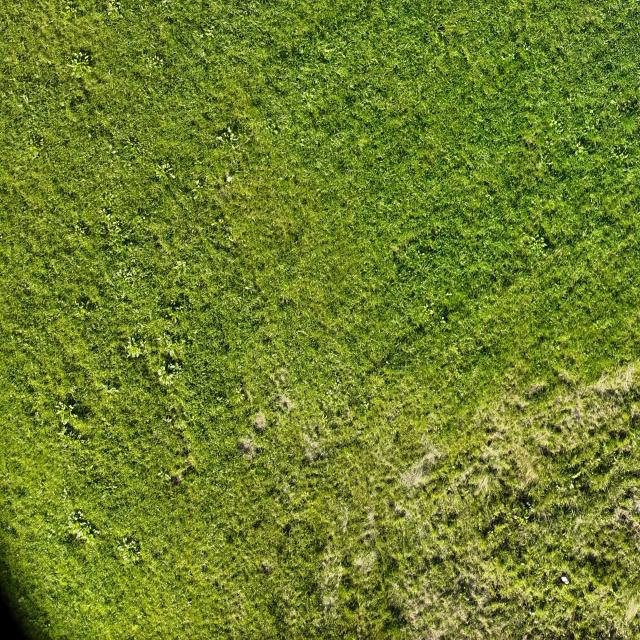rumex: (432, 249, 556, 390), (541, 154, 640, 326), (281, 310, 383, 460), (307, 6, 408, 142), (260, 460, 330, 554), (203, 2, 282, 72), (427, 5, 490, 78), (62, 50, 97, 111), (264, 370, 297, 422), (66, 508, 98, 546), (112, 264, 137, 308), (613, 94, 640, 130), (156, 459, 189, 488), (364, 344, 395, 374), (66, 211, 93, 244), (160, 302, 187, 334), (609, 136, 637, 166), (73, 294, 99, 325), (420, 296, 446, 326), (114, 535, 140, 564), (22, 128, 47, 158), (218, 123, 242, 152), (239, 379, 256, 410), (521, 124, 542, 148), (143, 54, 164, 77), (54, 400, 72, 426), (60, 419, 82, 440), (363, 508, 378, 538), (108, 234, 128, 255), (300, 90, 316, 115), (61, 0, 79, 22), (157, 368, 175, 388), (163, 362, 180, 382), (156, 162, 175, 179), (125, 340, 142, 359), (547, 115, 562, 136), (184, 454, 199, 474), (419, 431, 433, 452), (172, 260, 188, 278), (166, 342, 180, 362), (228, 391, 244, 408), (54, 384, 69, 400), (446, 506, 460, 523), (70, 51, 88, 64), (202, 24, 216, 40), (102, 385, 120, 397), (111, 1, 123, 18), (268, 118, 280, 135), (124, 538, 138, 551), (574, 142, 586, 156), (336, 68, 350, 80), (322, 593, 334, 607), (278, 294, 290, 307), (202, 111, 215, 123), (226, 530, 237, 544), (283, 388, 295, 400), (74, 509, 85, 522), (20, 94, 31, 106), (322, 46, 333, 58), (74, 529, 85, 541), (102, 213, 112, 225), (390, 243, 400, 254), (570, 471, 582, 480), (518, 516, 528, 526), (279, 372, 287, 384), (523, 234, 532, 243), (80, 308, 88, 318), (225, 174, 233, 184), (163, 472, 171, 481), (157, 368, 164, 378), (131, 622, 138, 632), (245, 284, 253, 292), (71, 70, 79, 78), (68, 402, 76, 410), (194, 179, 201, 188), (226, 125, 232, 135), (216, 218, 224, 225), (540, 241, 547, 249), (108, 146, 115, 154), (216, 135, 224, 142), (216, 395, 223, 403), (408, 346, 415, 354), (62, 488, 68, 496), (536, 100, 542, 108), (121, 291, 125, 302), (570, 482, 576, 489), (429, 309, 435, 316), (187, 599, 193, 606), (201, 49, 206, 57), (420, 252, 426, 258), (46, 60, 52, 66), (107, 70, 111, 79), (240, 393, 245, 400), (446, 292, 453, 297), (252, 216, 256, 224), (154, 55, 158, 61)
